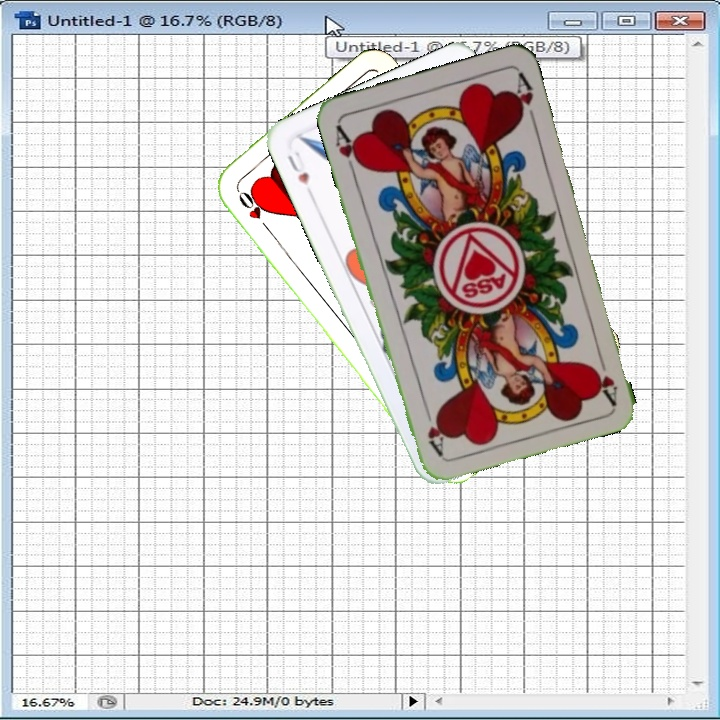HA: (331, 121, 365, 179), (588, 348, 621, 406)
HO: (232, 185, 274, 235)
HU: (283, 146, 315, 199)
